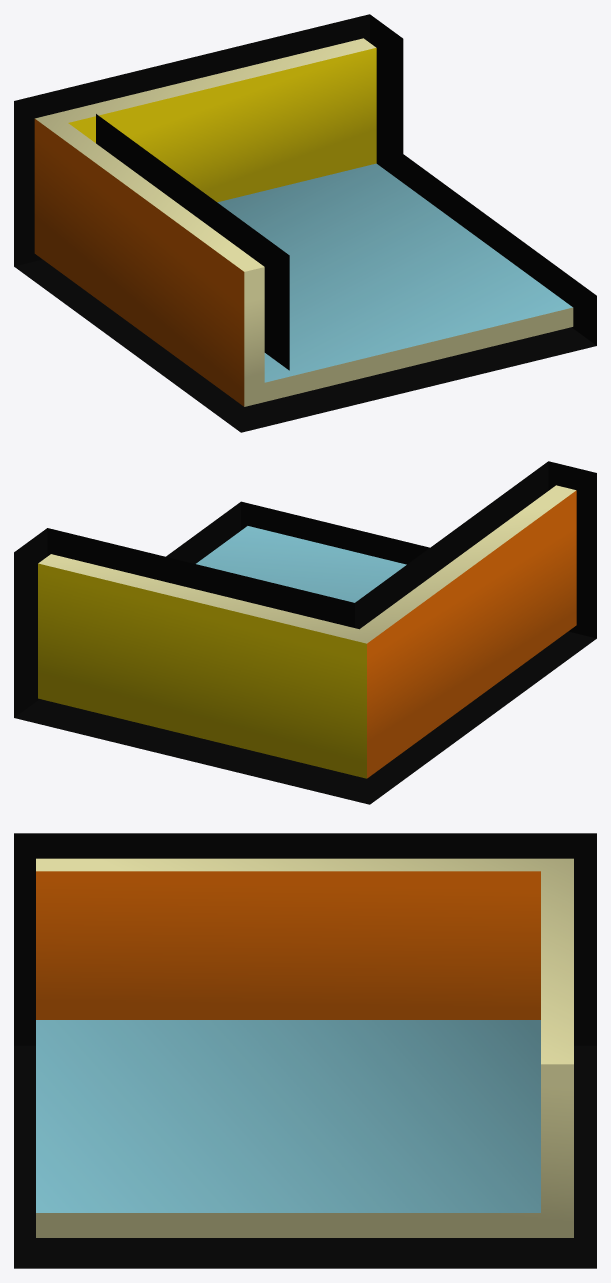
The model's file is Environment box w outline.fbx.
3 views of the same model, one above another, from view 1: azimuth 30°, elevation 25°; view 2: azimuth 150°, elevation 25°; view 3: azimuth 270°, elevation 25° (orthographic). The views are drawn at different scales.
Parts seen in each view (by area): view 1: Env, Cube; view 2: Env, Cube; view 3: Env, Cube.
Boxes of the visible parts, x1=… form: Env: x1=34, y1=38, x2=573, y2=406; Cube: x1=14, y1=14, x2=596, y2=432; Env: x1=38, y1=485, x2=576, y2=778; Cube: x1=14, y1=461, x2=596, y2=804; Env: x1=36, y1=858, x2=573, y2=1237; Cube: x1=14, y1=833, x2=596, y2=1268.
Size of the model in its own units: 3645 by 1620 by 4029.
Materials: 1 (1 with a texture image).
